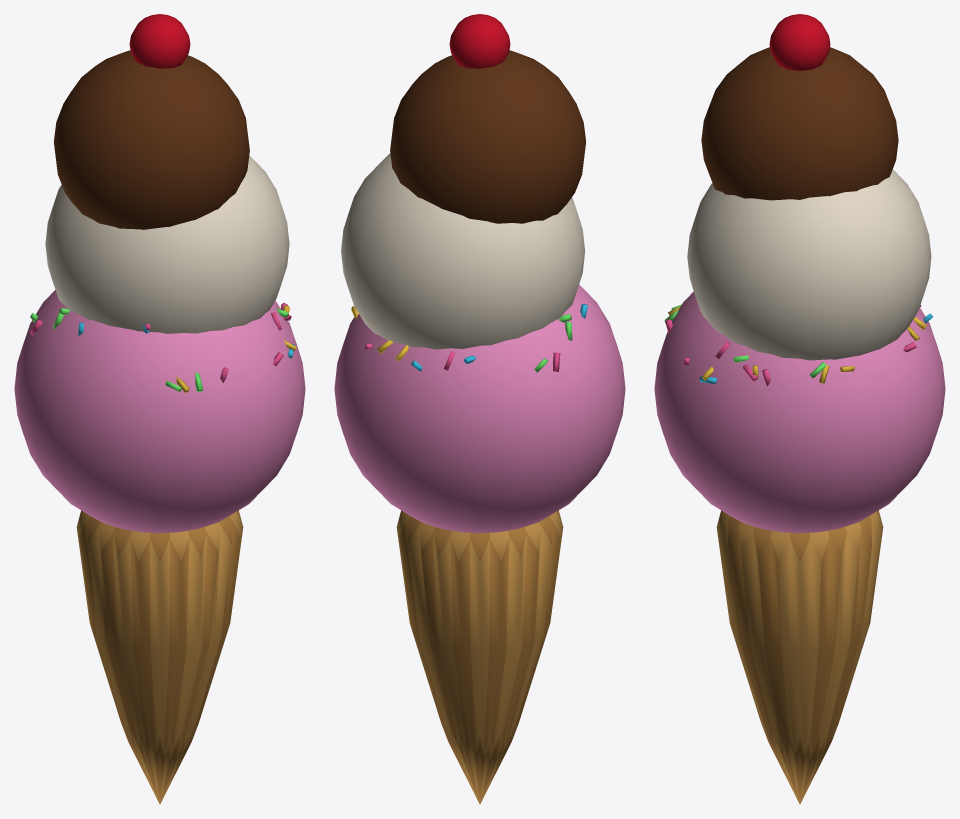
The model's file is icecream.glb.
3 views of the same model, side by side, from view 1: azimuth 30°, elevation 25°; view 2: azimuth 150°, elevation 25°; view 3: azimuth 270°, elevation 25° (orthographic).
Visible parts, largest first — view 1: Icecream; view 2: Icecream; view 3: Icecream.
Part boxes in pixels (x1,y1,x2,y2): Icecream: (14, 14, 305, 804); Icecream: (334, 14, 625, 804); Icecream: (654, 14, 945, 804).
Bounding box in the file's own units: 12.4 × 37.05 × 12.4.
